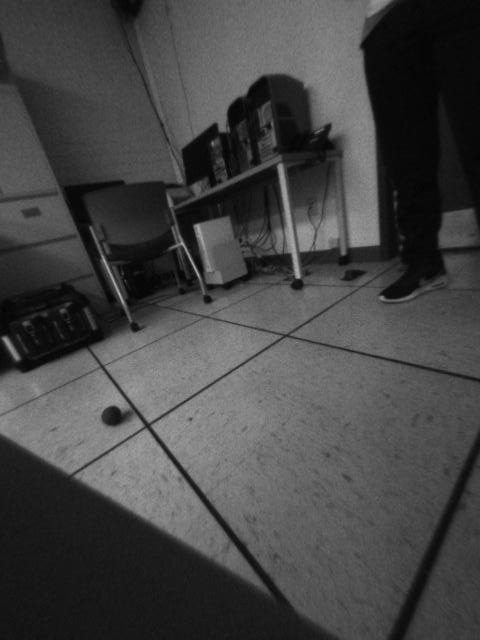dogtoy: (92, 398, 125, 430)
